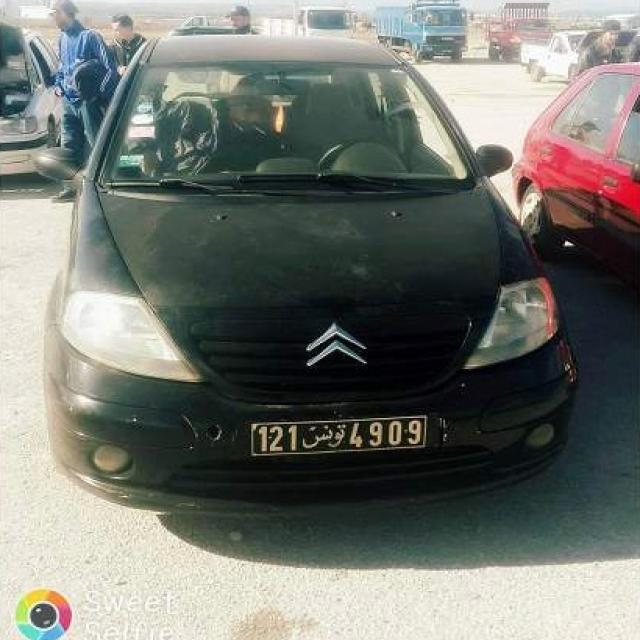licence plate: (253, 417, 428, 457)
